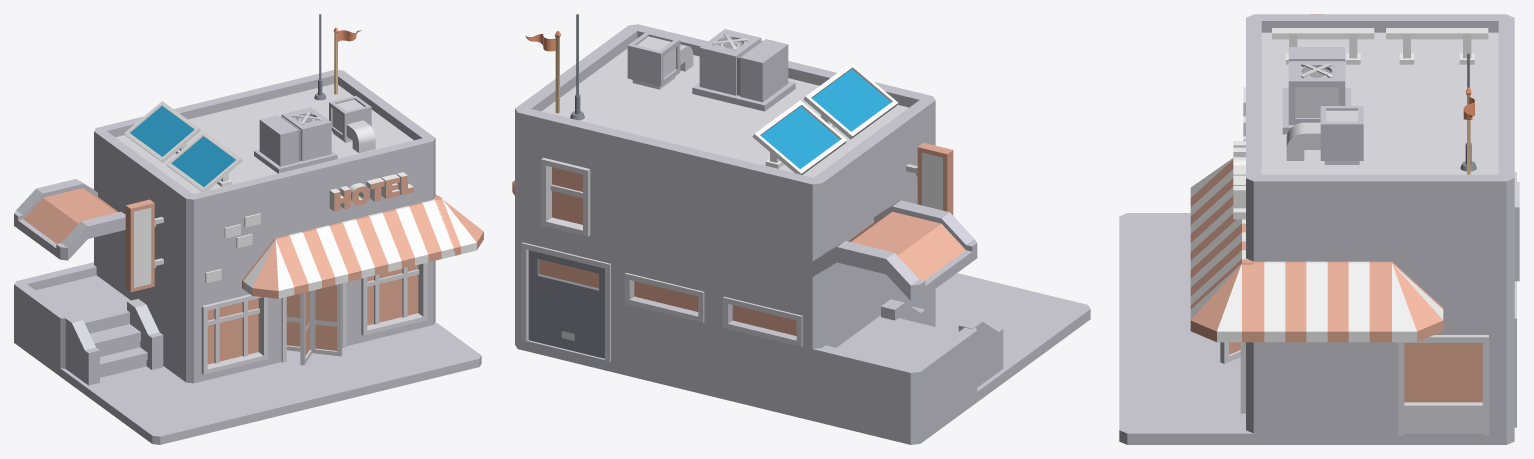
File: hotel_building.glb
The picture shows the model from 3 angles, left to right: view 1: azimuth 30°, elevation 25°; view 2: azimuth 150°, elevation 25°; view 3: azimuth 270°, elevation 25°; orthographic projection. The views are drawn at different scales.
Parts seen in each view (by area): view 1: wall_windowLarge_245, roof_window_265, roof_square_277, detail_stairs_255, wall_doorRevolving_231, wall_straight_216, wall_windowLarge_244, roof_corner_258, awning_straight_238, roof_square_280, awning_straight_239, roof_square_278 (+26 smaller); view 2: wall_straight_213, wall_garageDoorClosed_272, wall_straight_212, wall_windowFactory_273, wall_windowFactory_274, wall_window_275, roof_window_265, roof_corner_225, roof_corner_258, roof_side_226, detail_airLarge_227, roof_corner_224 (+22 smaller); view 3: wall_windowStore_276, wall_straight_220, wall_straight_205, awning_straight_241, roof_corner_225, roof_square_280, roof_corner_224, roof_corner_221, wall_straight_219, roof_side_226, roof_corner_223, roof_square_279 (+21 smaller).
Boxes of the visible parts, x1=… form: wall_windowLarge_245: x1=186, y1=288, x2=273, y2=383; roof_window_265: x1=14, y1=179, x2=125, y2=260; roof_square_277: x1=106, y1=382, x2=241, y2=444; detail_stairs_255: x1=64, y1=299, x2=163, y2=385; wall_doorRevolving_231: x1=273, y1=280, x2=353, y2=365; wall_straight_216: x1=194, y1=197, x2=273, y2=299; wall_windowLarge_244: x1=353, y1=261, x2=433, y2=344; roof_corner_258: x1=14, y1=262, x2=130, y2=335; awning_straight_238: x1=282, y1=217, x2=381, y2=292; roof_square_280: x1=359, y1=322, x2=481, y2=386; awning_straight_239: x1=362, y1=195, x2=457, y2=273; roof_square_278: x1=199, y1=362, x2=321, y2=425; wall_straight_213: x1=714, y1=181, x2=822, y2=307; wall_garageDoorClosed_272: x1=515, y1=232, x2=615, y2=362; wall_straight_212: x1=616, y1=157, x2=714, y2=283; wall_windowFactory_273: x1=616, y1=260, x2=714, y2=386; wall_windowFactory_274: x1=714, y1=284, x2=812, y2=410; wall_window_275: x1=517, y1=133, x2=615, y2=259; roof_window_265: x1=812, y1=200, x2=977, y2=300; roof_corner_225: x1=515, y1=67, x2=681, y2=156; roof_corner_258: x1=812, y1=315, x2=977, y2=393; roof_side_226: x1=614, y1=102, x2=766, y2=180; detail_airLarge_227: x1=692, y1=29, x2=795, y2=111; roof_corner_224: x1=712, y1=138, x2=878, y2=204; wall_windowStore_276: x1=1380, y1=319, x2=1506, y2=435; wall_straight_220: x1=1380, y1=201, x2=1514, y2=318; wall_straight_205: x1=1246, y1=342, x2=1380, y2=433; awning_straight_241: x1=1253, y1=261, x2=1380, y2=342; roof_corner_225: x1=1372, y1=121, x2=1514, y2=204; roof_square_280: x1=1119, y1=373, x2=1253, y2=444; roof_corner_224: x1=1372, y1=14, x2=1514, y2=85; roof_corner_221: x1=1246, y1=121, x2=1387, y2=204; wall_straight_219: x1=1253, y1=204, x2=1380, y2=261; roof_side_226: x1=1372, y1=71, x2=1514, y2=139; roof_corner_223: x1=1246, y1=14, x2=1387, y2=85; roof_square_279: x1=1119, y1=323, x2=1240, y2=376.
Bounding box in the file's own units: 45.63 × 32 × 31.65.
